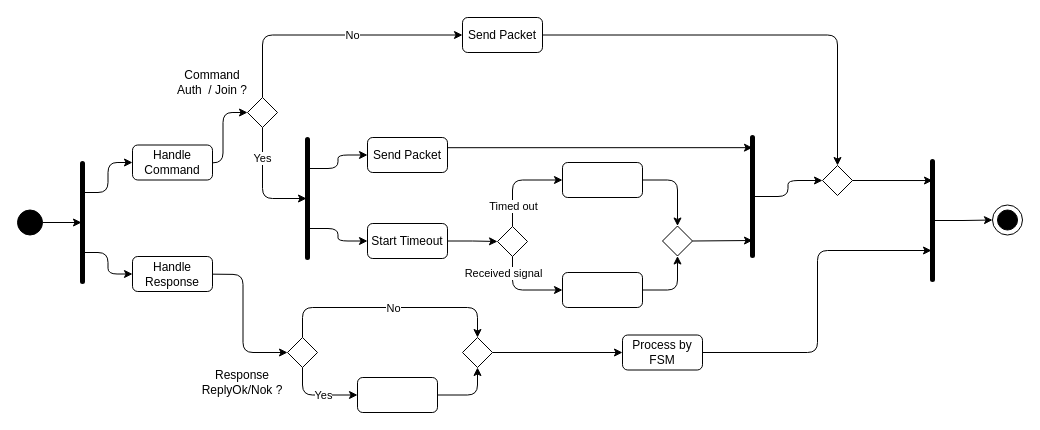
Some shapes in this 1040 by 430 pixel diagram are drawn without their labels. Here are the shapes that lost their labels. From the top down, the centre of each, then its label:
At (602,180): "Send signal to FSM".
At (602,290): "End Timeout".
At (397,394): "Send signal to end timeout".
